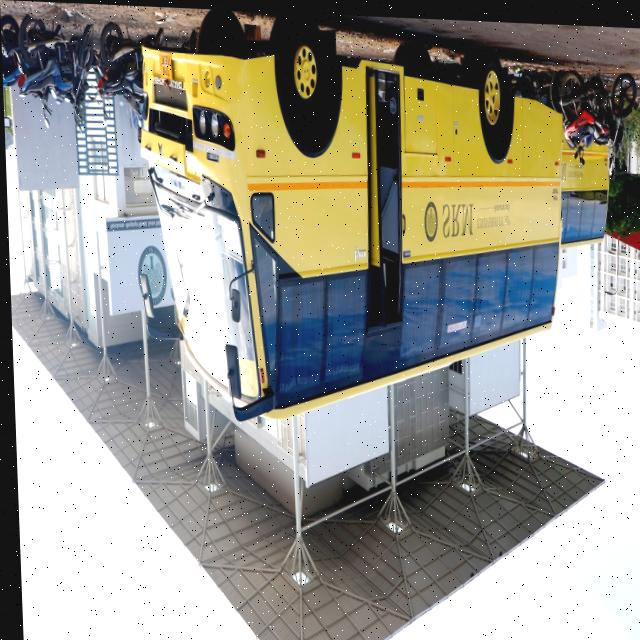plate: (157, 47, 173, 81)
